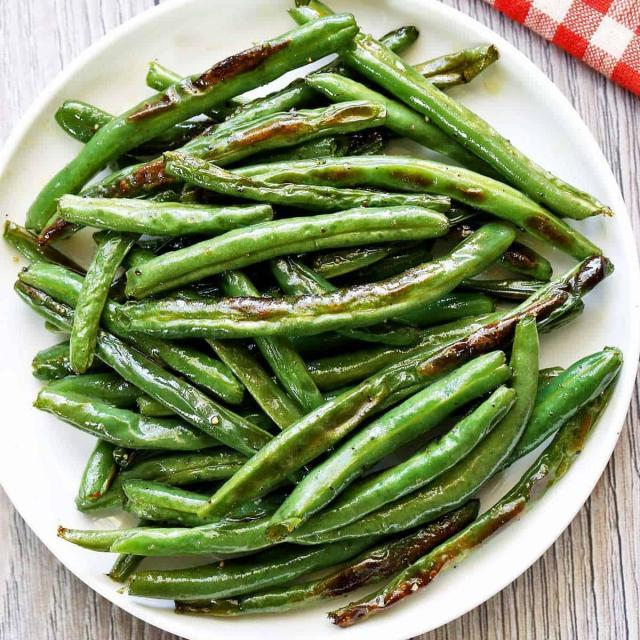Beans: (5, 0, 639, 629)
